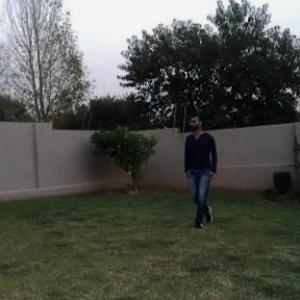follow: (177, 106, 222, 235)
